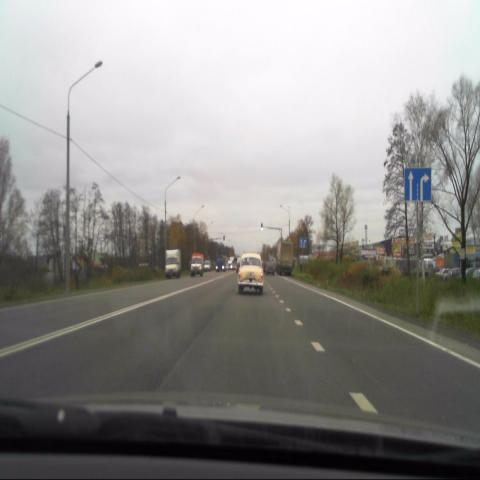5_15_2_2: (404, 168, 432, 202)
